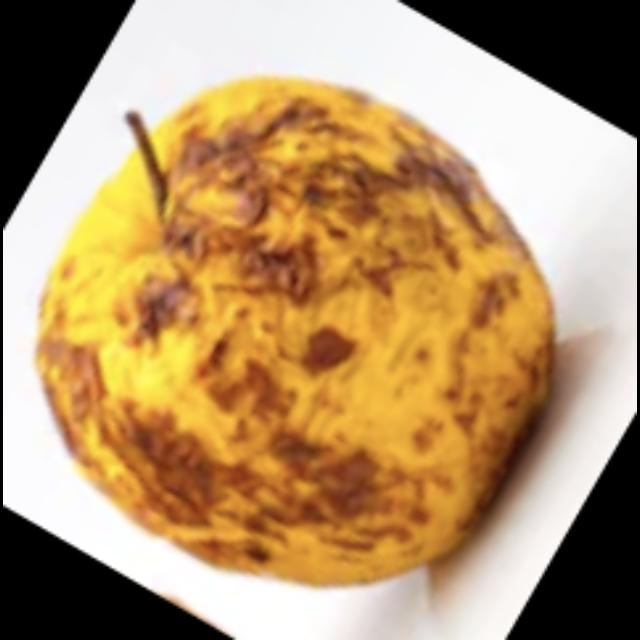Apel Tidak Segar: (22, 19, 596, 618)
